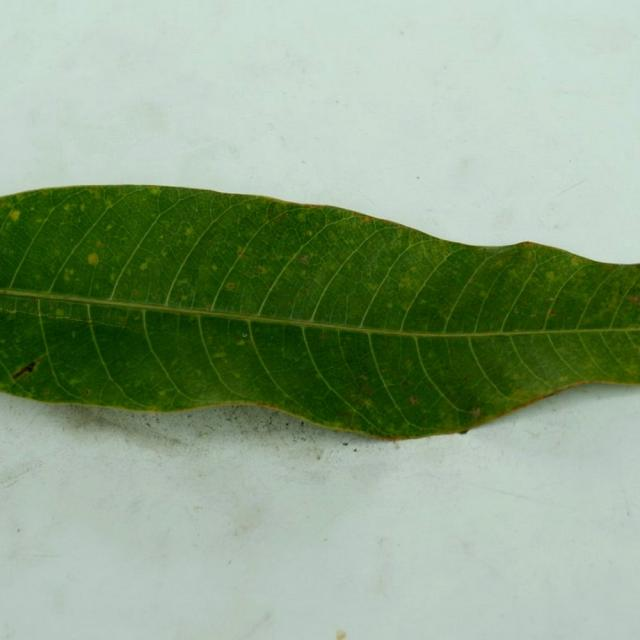Mango: (0, 185, 639, 438)
Powdery_Mildew: (11, 360, 38, 380), (355, 377, 376, 395), (80, 251, 105, 264), (617, 285, 634, 298), (63, 267, 76, 282), (398, 277, 413, 290), (469, 407, 481, 419), (9, 210, 20, 220), (627, 295, 639, 304), (119, 315, 128, 327), (408, 395, 418, 405), (545, 271, 555, 280), (184, 227, 194, 236), (299, 255, 309, 264), (520, 240, 535, 246), (150, 187, 161, 195), (139, 261, 148, 270), (257, 266, 266, 275), (55, 308, 65, 316), (363, 399, 373, 407), (509, 270, 519, 278), (177, 278, 188, 285), (69, 378, 80, 385), (213, 352, 225, 358), (571, 257, 579, 266), (297, 212, 306, 220), (236, 247, 244, 255), (160, 249, 168, 257), (130, 289, 138, 297), (360, 216, 369, 223), (158, 389, 167, 396), (559, 375, 569, 381), (227, 283, 235, 290), (237, 339, 245, 346), (95, 240, 103, 247), (105, 224, 113, 231), (180, 294, 188, 301), (63, 204, 71, 211), (275, 253, 283, 260), (233, 372, 241, 379), (409, 266, 417, 273), (346, 263, 354, 270), (548, 310, 556, 317), (34, 274, 42, 281), (479, 292, 488, 298), (211, 264, 218, 271), (63, 274, 70, 281), (306, 230, 313, 237), (83, 388, 90, 395), (79, 204, 86, 211), (386, 302, 393, 309), (35, 217, 43, 223), (109, 274, 115, 282), (419, 299, 426, 305), (635, 295, 640, 303), (246, 203, 252, 209), (0, 338, 6, 344), (342, 441, 348, 446), (71, 331, 76, 337), (242, 333, 248, 338), (549, 297, 555, 301)
